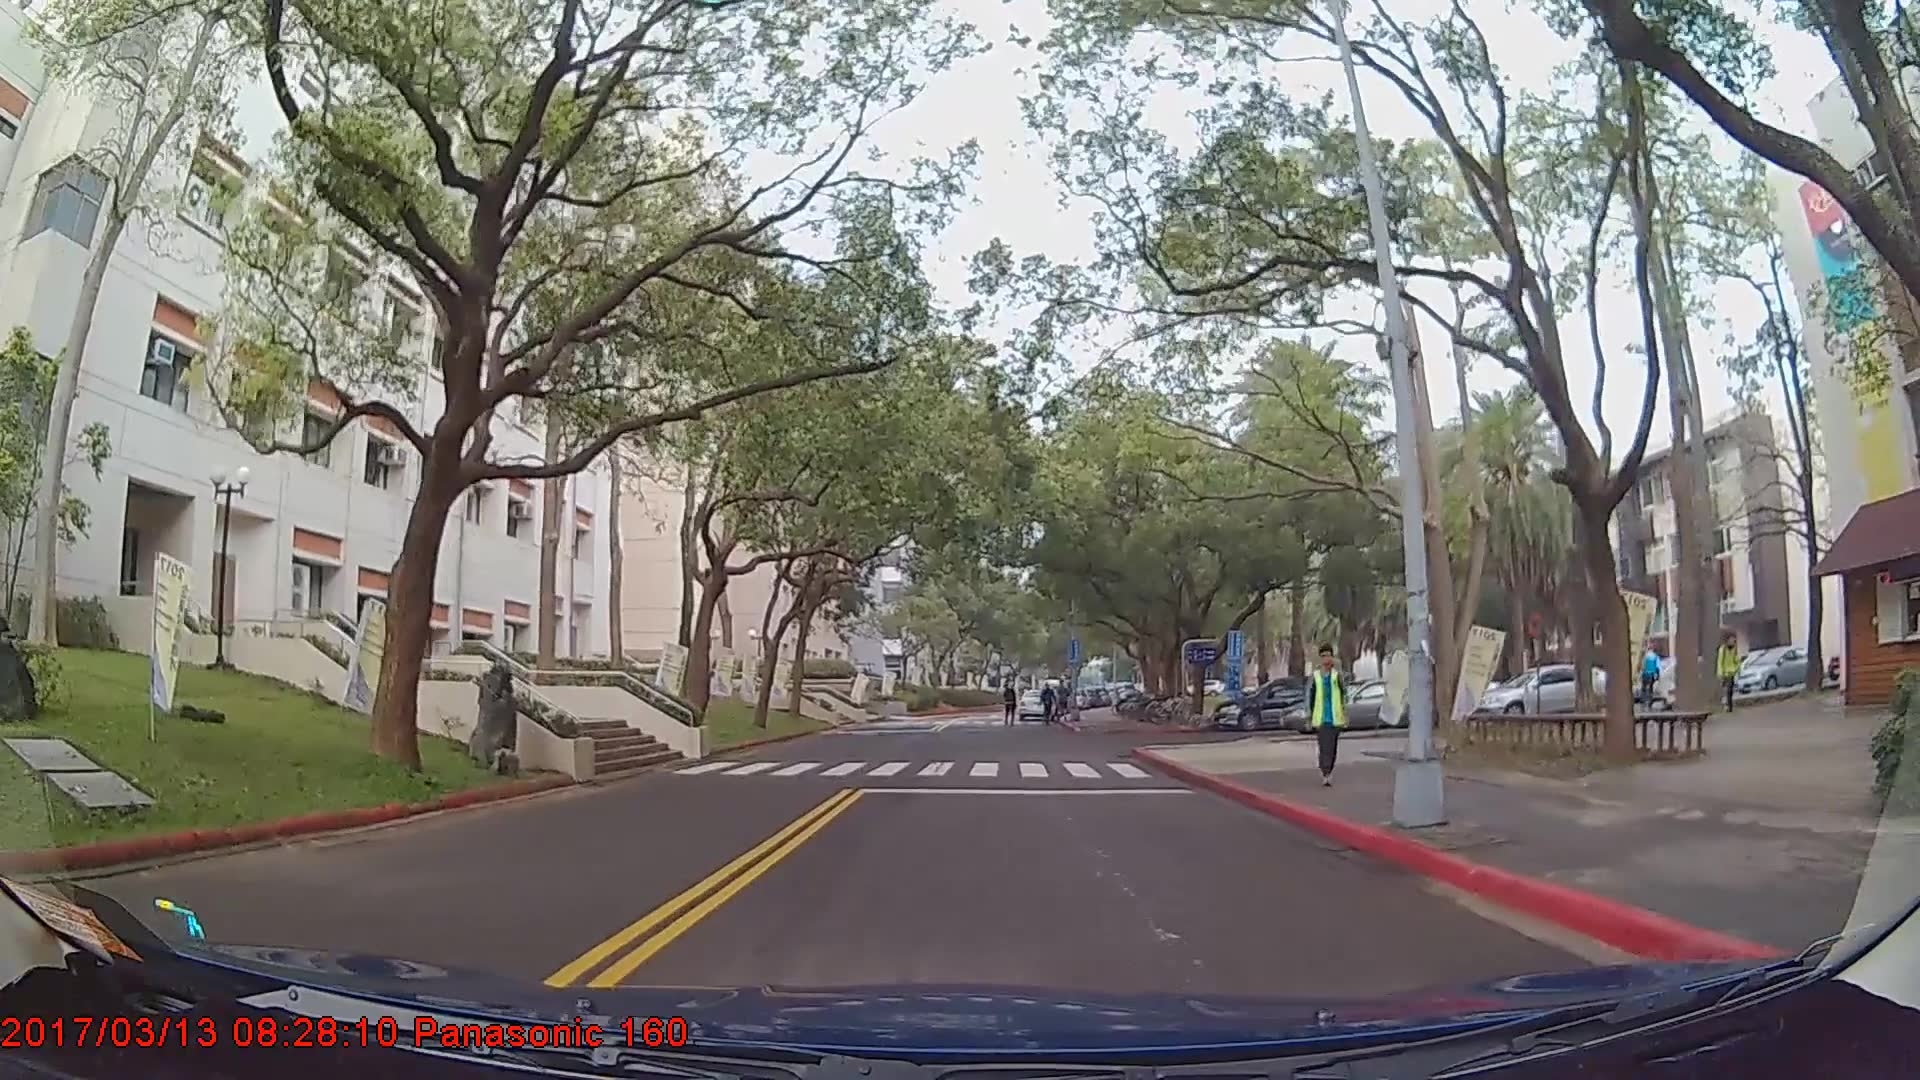pedestrian: (1307, 646, 1353, 789), (1639, 635, 1668, 720), (1718, 634, 1744, 715), (1039, 683, 1059, 728)
vehicle: (1472, 663, 1617, 724), (1289, 676, 1440, 732), (1216, 672, 1338, 729), (1732, 644, 1817, 695), (1018, 690, 1050, 720)
